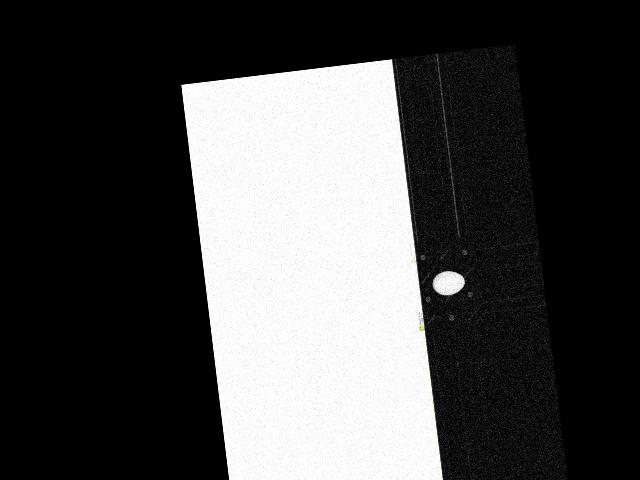egg: (430, 268, 465, 296)
